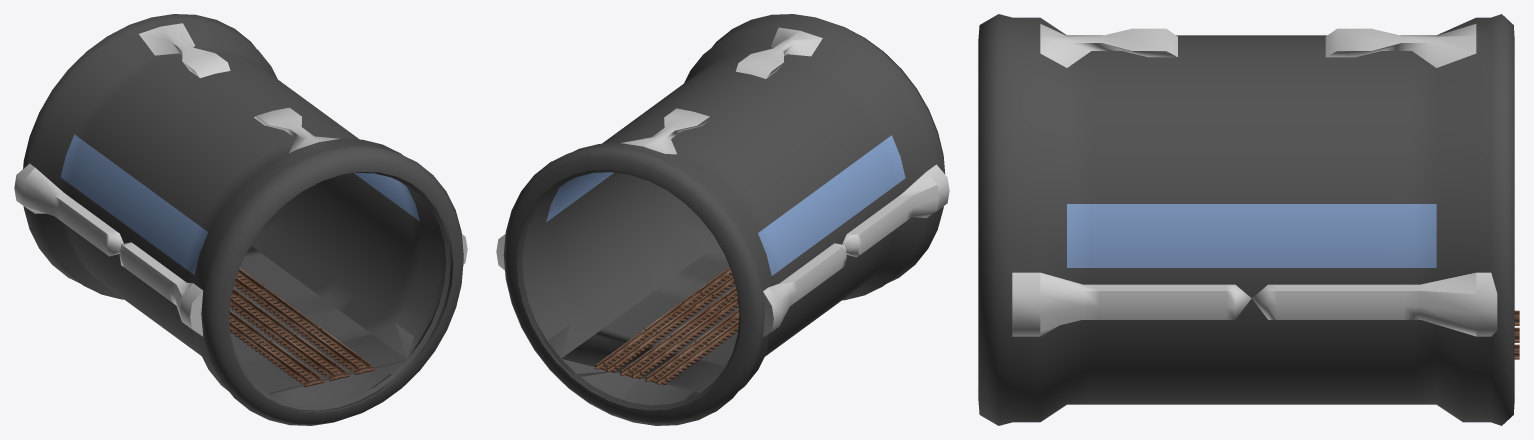
Rendered from subw_straight.fbx.
3 renders of one model, left to right at view 1: azimuth 30°, elevation 25°; view 2: azimuth 150°, elevation 25°; view 3: azimuth 270°, elevation 25°, orthographic. The views are drawn at different scales.
Visible parts, largest first — view 1: subw_S_tube, subw_S_LaR, subw_S_LaM, subw_S_LaL; view 2: subw_S_tube, subw_S_LaR, subw_S_LaM, subw_S_LaL; view 3: subw_S_tube.
Part boxes in pixels (left/top/right/bottom): subw_S_tube: left=14, top=14, right=467, bottom=425; subw_S_LaR: left=234, top=268, right=374, bottom=374; subw_S_LaM: left=230, top=288, right=349, bottom=381; subw_S_LaL: left=229, top=310, right=324, bottom=387; subw_S_tube: left=496, top=14, right=949, bottom=425; subw_S_LaR: left=594, top=267, right=734, bottom=372; subw_S_LaM: left=620, top=287, right=738, bottom=378; subw_S_LaL: left=645, top=309, right=739, bottom=384; subw_S_tube: left=978, top=14, right=1514, bottom=425.
Size of the model in its own units: 198 by 185 by 242.
4 materials, 1 textured.
